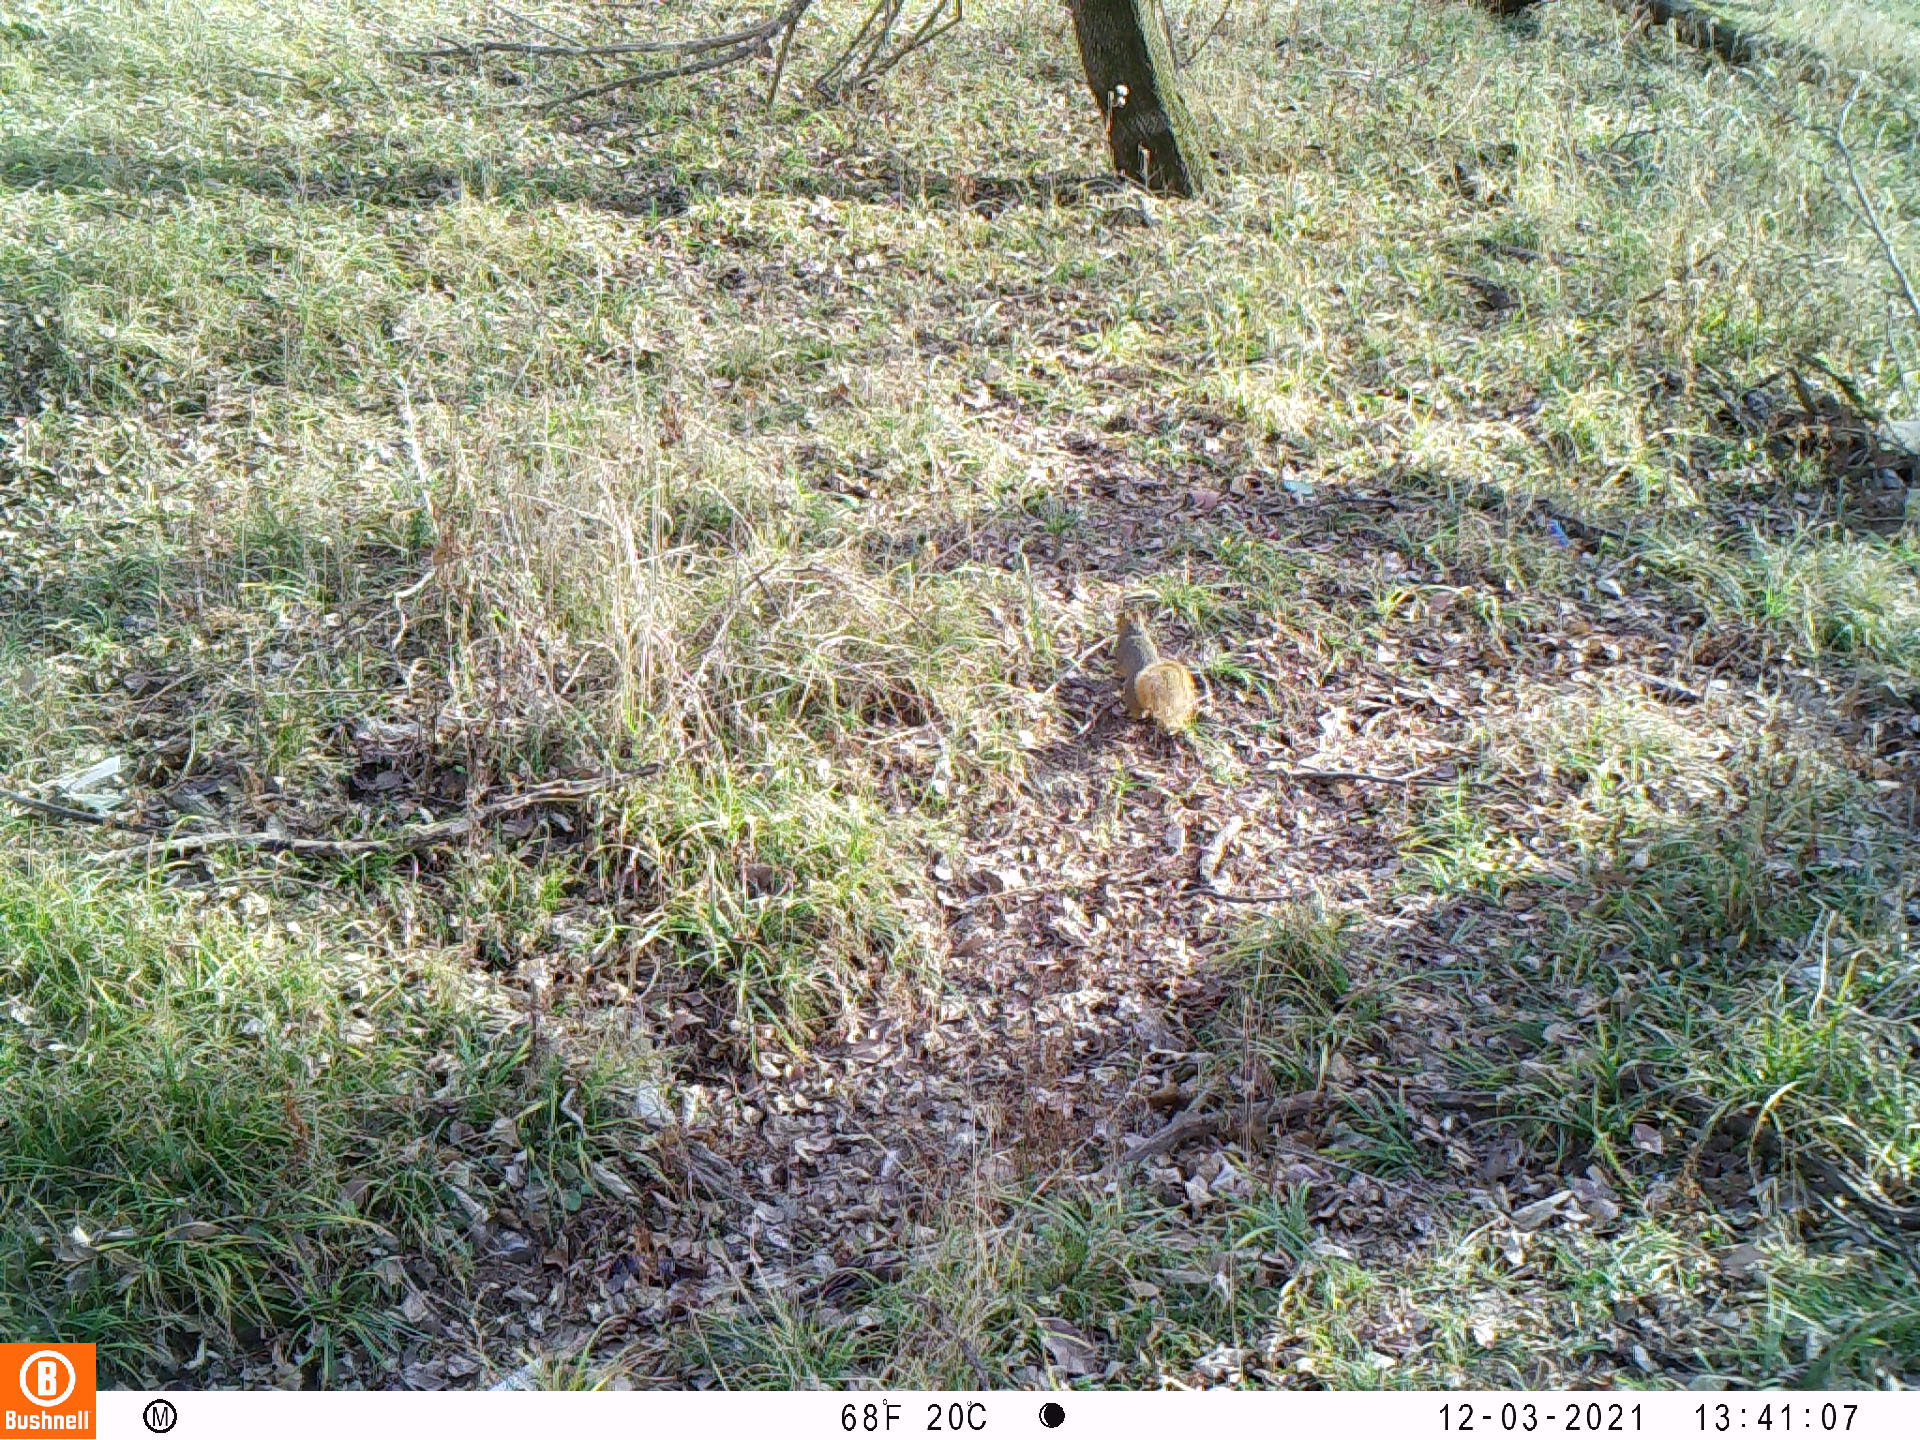Squirrel: (1110, 607, 1196, 731)
